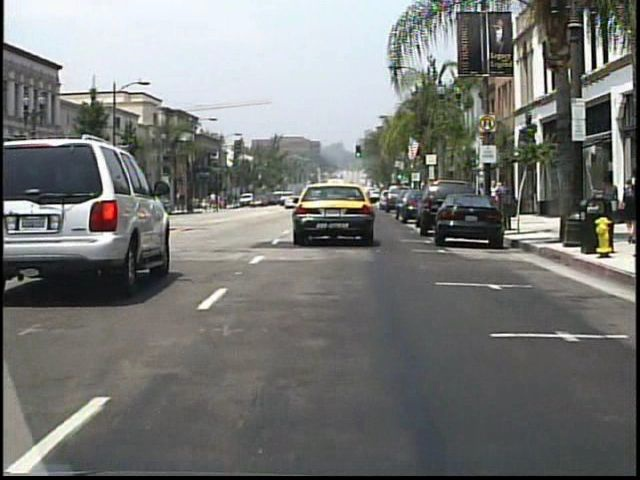person: (592, 172, 619, 243), (489, 180, 502, 215), (233, 194, 240, 210)
